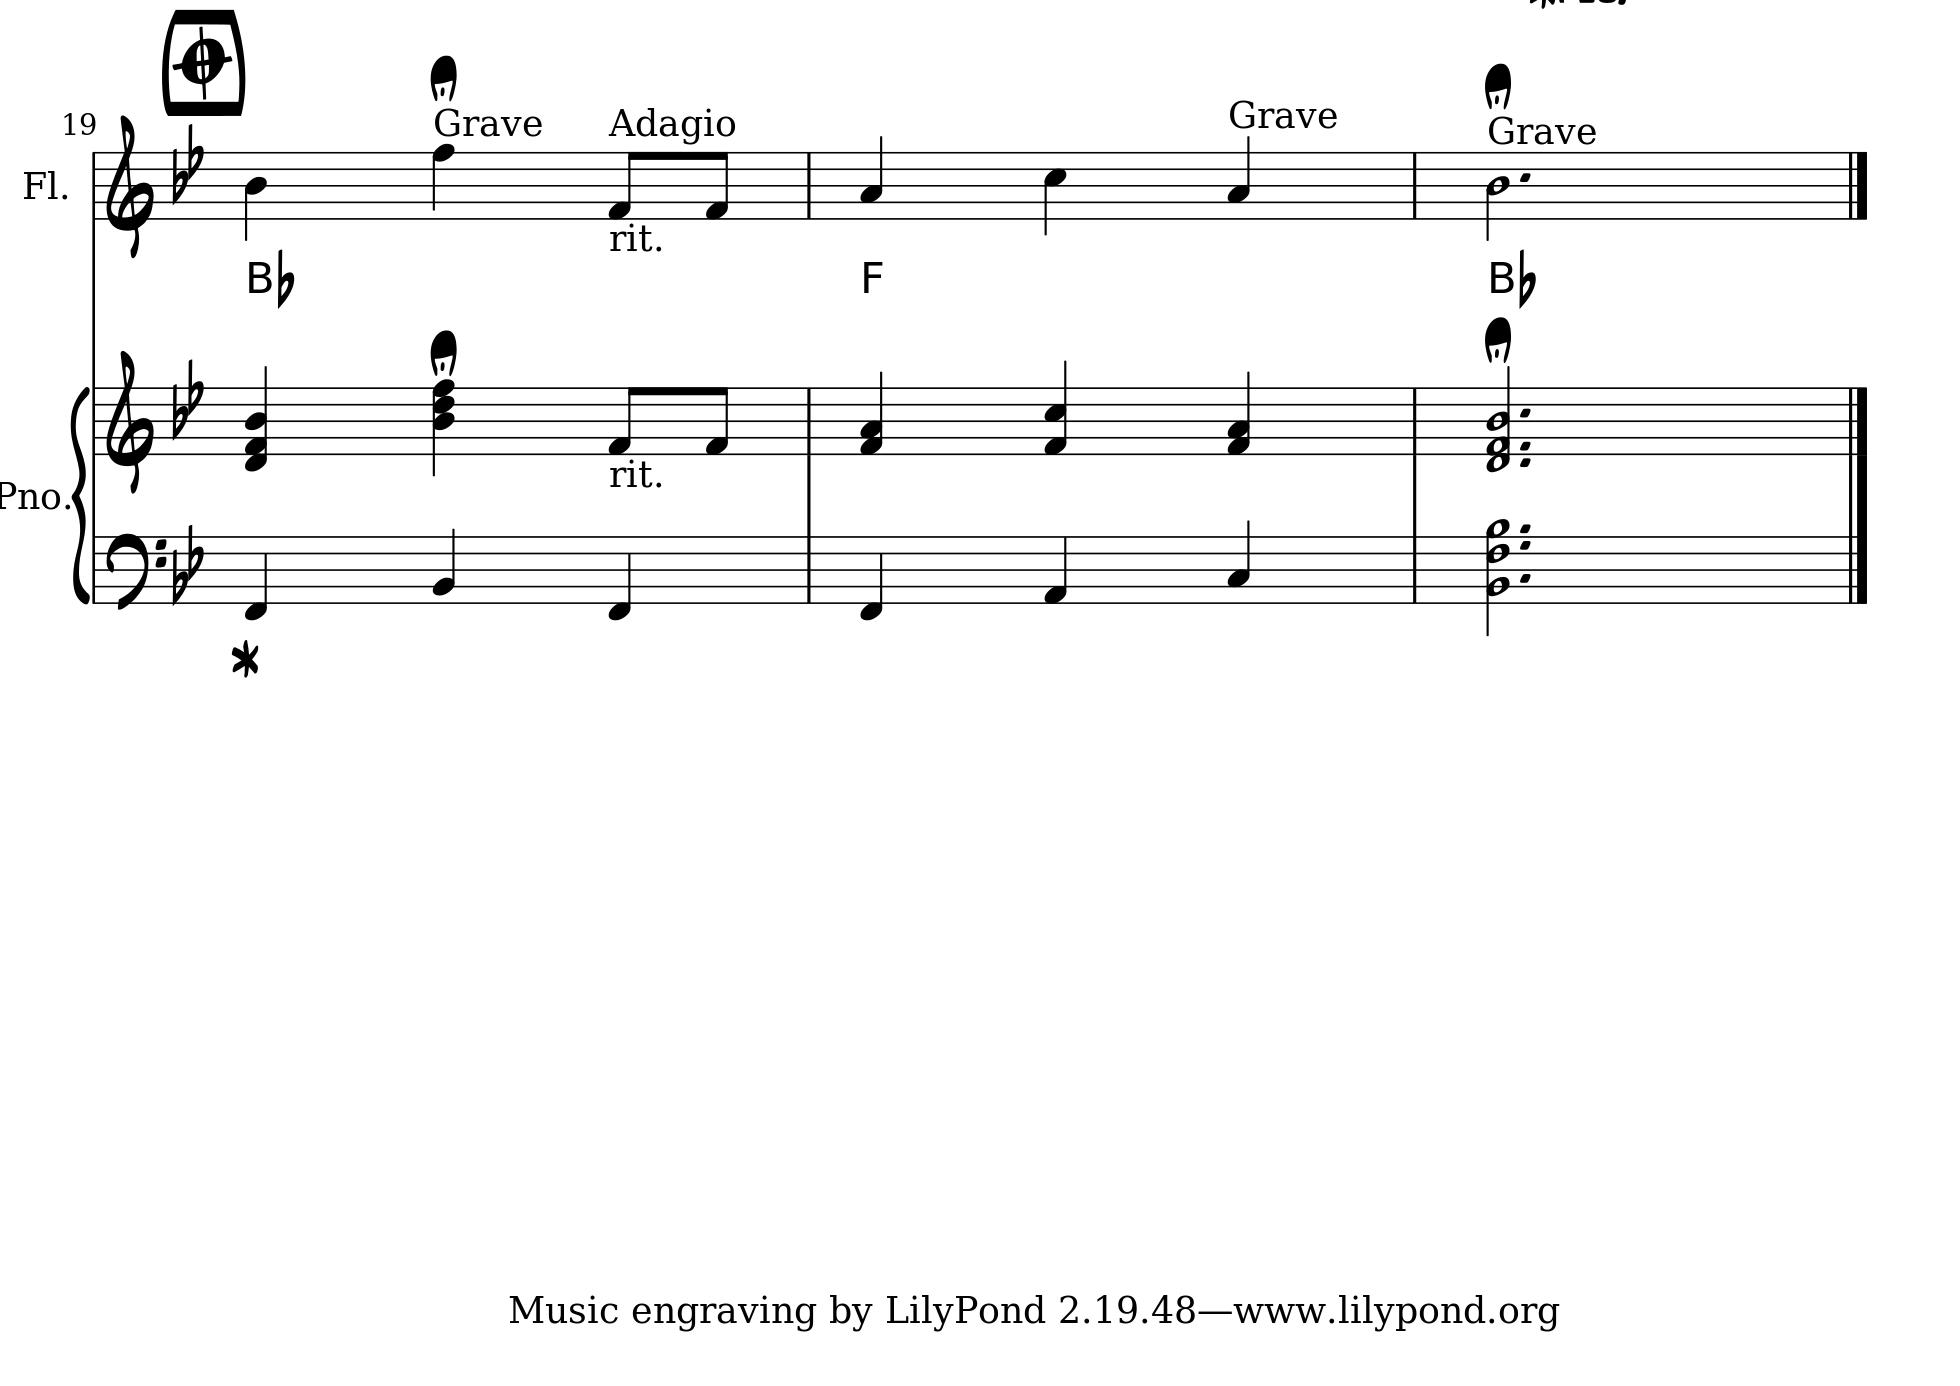1: (61, 108, 76, 138)
2_4: (1485, 150, 1512, 241)
2_4th: (1482, 514, 1513, 636)
4_-1: (241, 532, 270, 621), (606, 532, 633, 622), (856, 532, 883, 622)
4_1: (1041, 534, 1069, 606)
4_1_3: (1227, 370, 1254, 456), (859, 370, 883, 457)
4_1_5: (1044, 360, 1069, 459)
4_2: (430, 525, 457, 606)
4_3: (858, 133, 883, 220), (1225, 133, 1251, 220), (1227, 517, 1251, 604)
4_4: (241, 150, 268, 241)
4_5: (1041, 148, 1068, 237)
4_8: (430, 141, 454, 220)
4_th: (1485, 364, 1515, 472), (243, 364, 271, 475), (430, 375, 456, 474)
8_1: (606, 382, 642, 454), (606, 148, 640, 220), (703, 148, 730, 220), (703, 384, 730, 456)
9: (78, 106, 96, 138)
B_F: (171, 121, 208, 205), (169, 357, 205, 439), (169, 523, 204, 607)
Brace: (70, 382, 91, 604)
Coda: (175, 25, 231, 96)
Fclef: (103, 531, 166, 612)
Final_barline: (1845, 385, 1870, 454), (1845, 151, 1870, 219), (1843, 535, 1869, 601)
Fl: (19, 166, 58, 202)
Flat: (274, 247, 295, 309)
Gclef: (103, 111, 154, 258), (103, 348, 154, 493)
Pno: (1, 477, 60, 514)
Single_barline: (799, 387, 819, 453), (799, 151, 817, 217), (799, 535, 817, 601), (1407, 388, 1425, 453), (1407, 151, 1423, 217), (1407, 535, 1423, 601), (88, 537, 102, 600), (88, 385, 100, 454), (88, 151, 99, 219)
dot: (1518, 405, 1533, 420), (1518, 520, 1533, 535), (1518, 438, 1533, 451), (1518, 454, 1533, 468), (1518, 537, 1533, 550), (1518, 571, 1533, 583)
